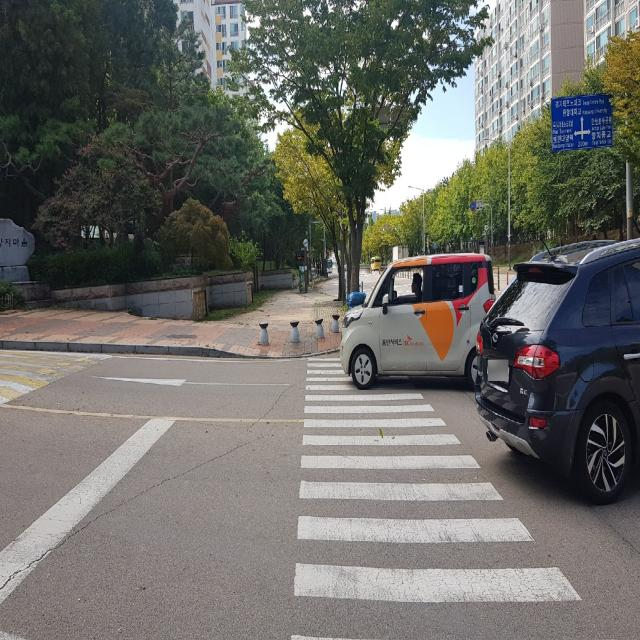횡단보도: (292, 356, 582, 640)
